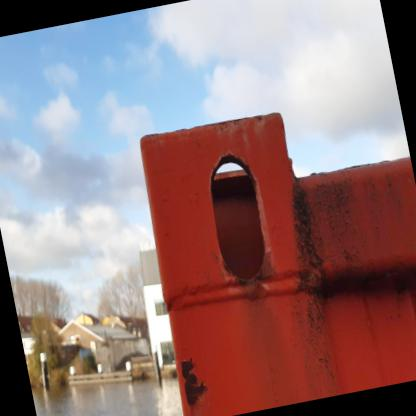CornerCasting: (117, 96, 320, 308)
